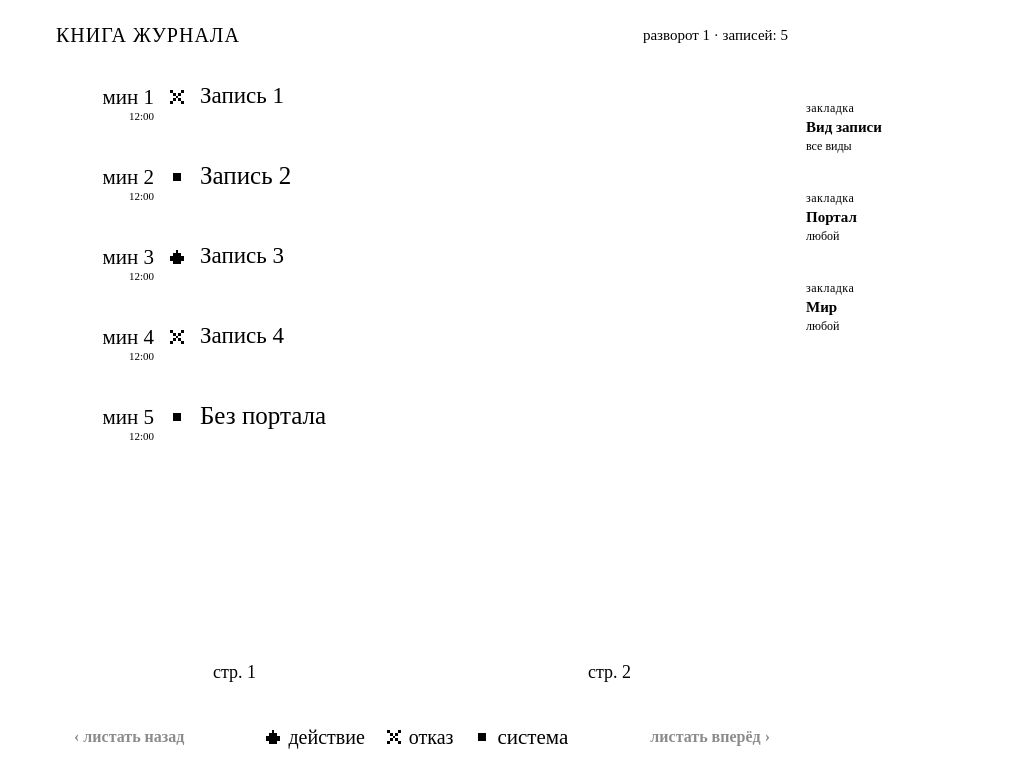
Test: Книга журнала (spec §8, §9) › закладки-фильтры › портал: варианты берутся из записей и сужают книгу
Click the button "закладка Портал любой": (880, 223) [792,184,968,262]
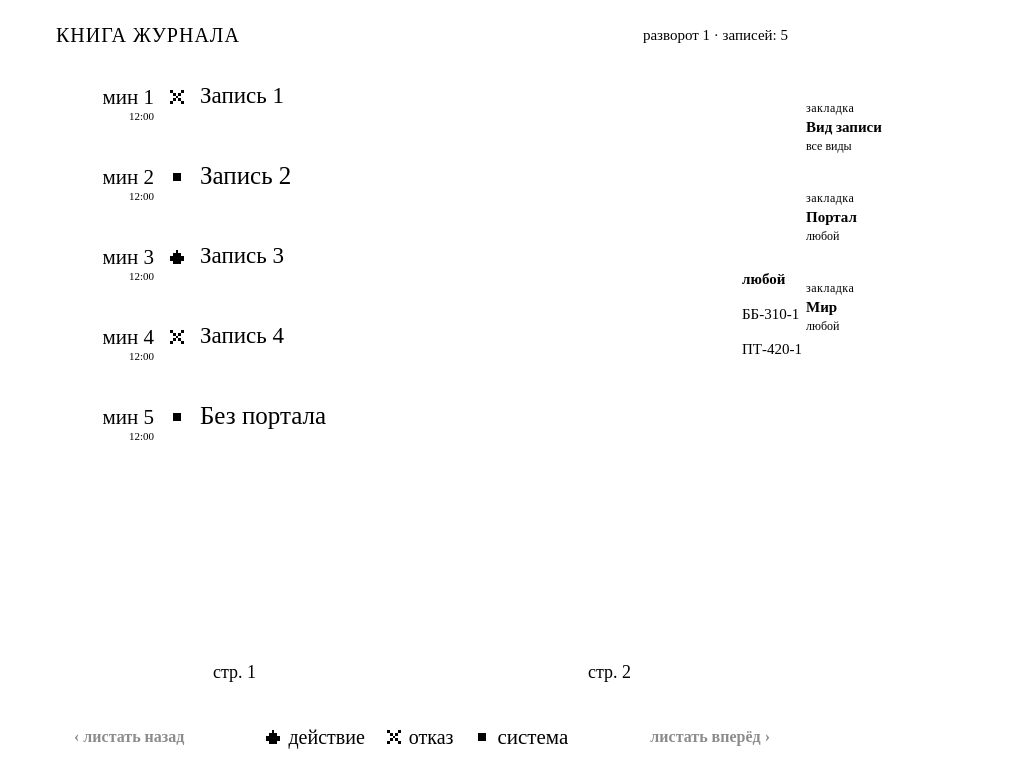
Now the button "ББ-310-1" is shown, box [728,297,968,332]
Now the button "ПТ-420-1" is shown
Click the button "ПТ-420-1": (848, 350) [728,332,968,367]
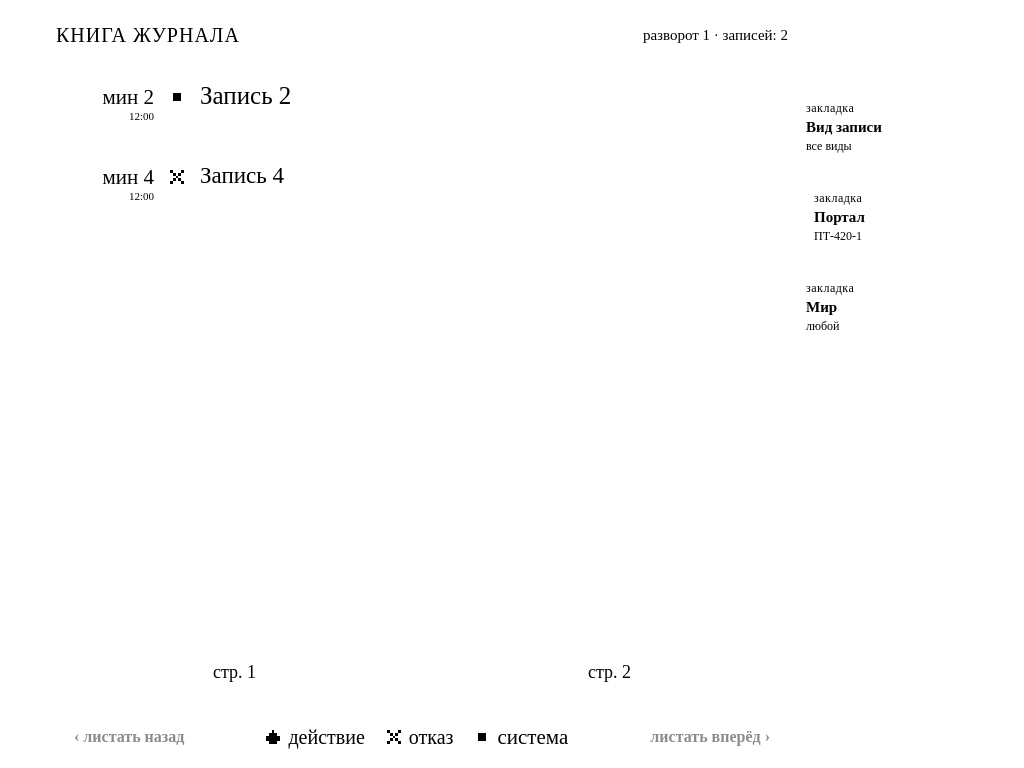
Now the button "закладка Портал ПТ-420-1" is shown, box [800,184,976,262]
